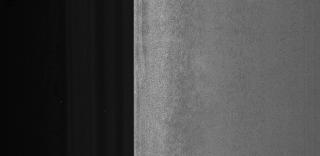silk spot: (168, 30, 215, 142)
